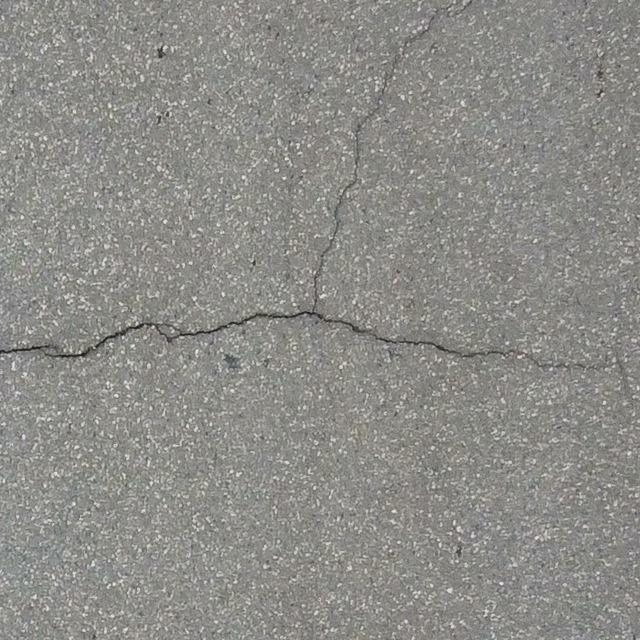LongitudinalCrack: (309, 1, 473, 312)
TransverseCrack: (1, 310, 599, 371)
